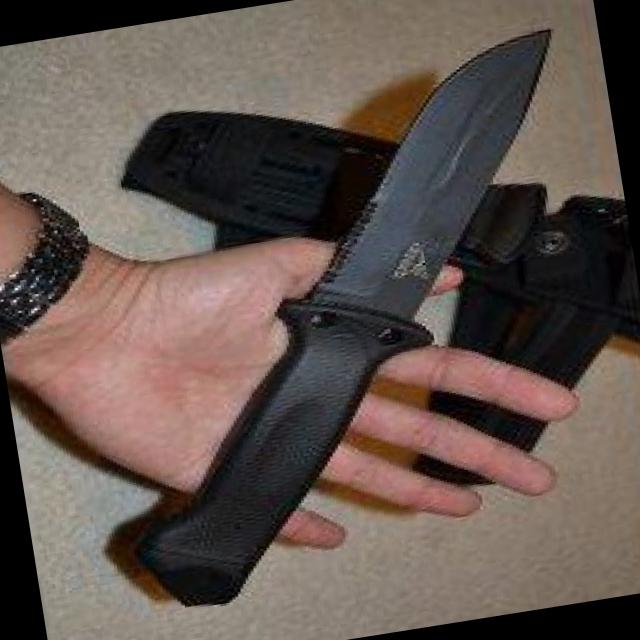knife: (232, 16, 616, 377)
